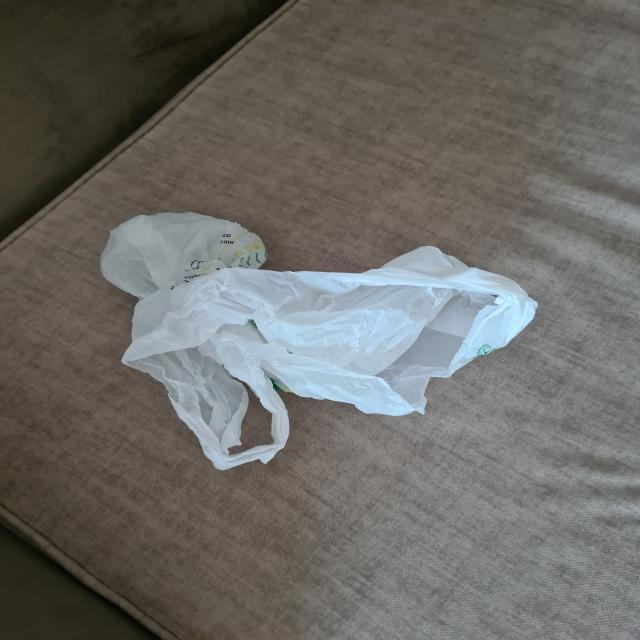plastic: (101, 214, 534, 468)
